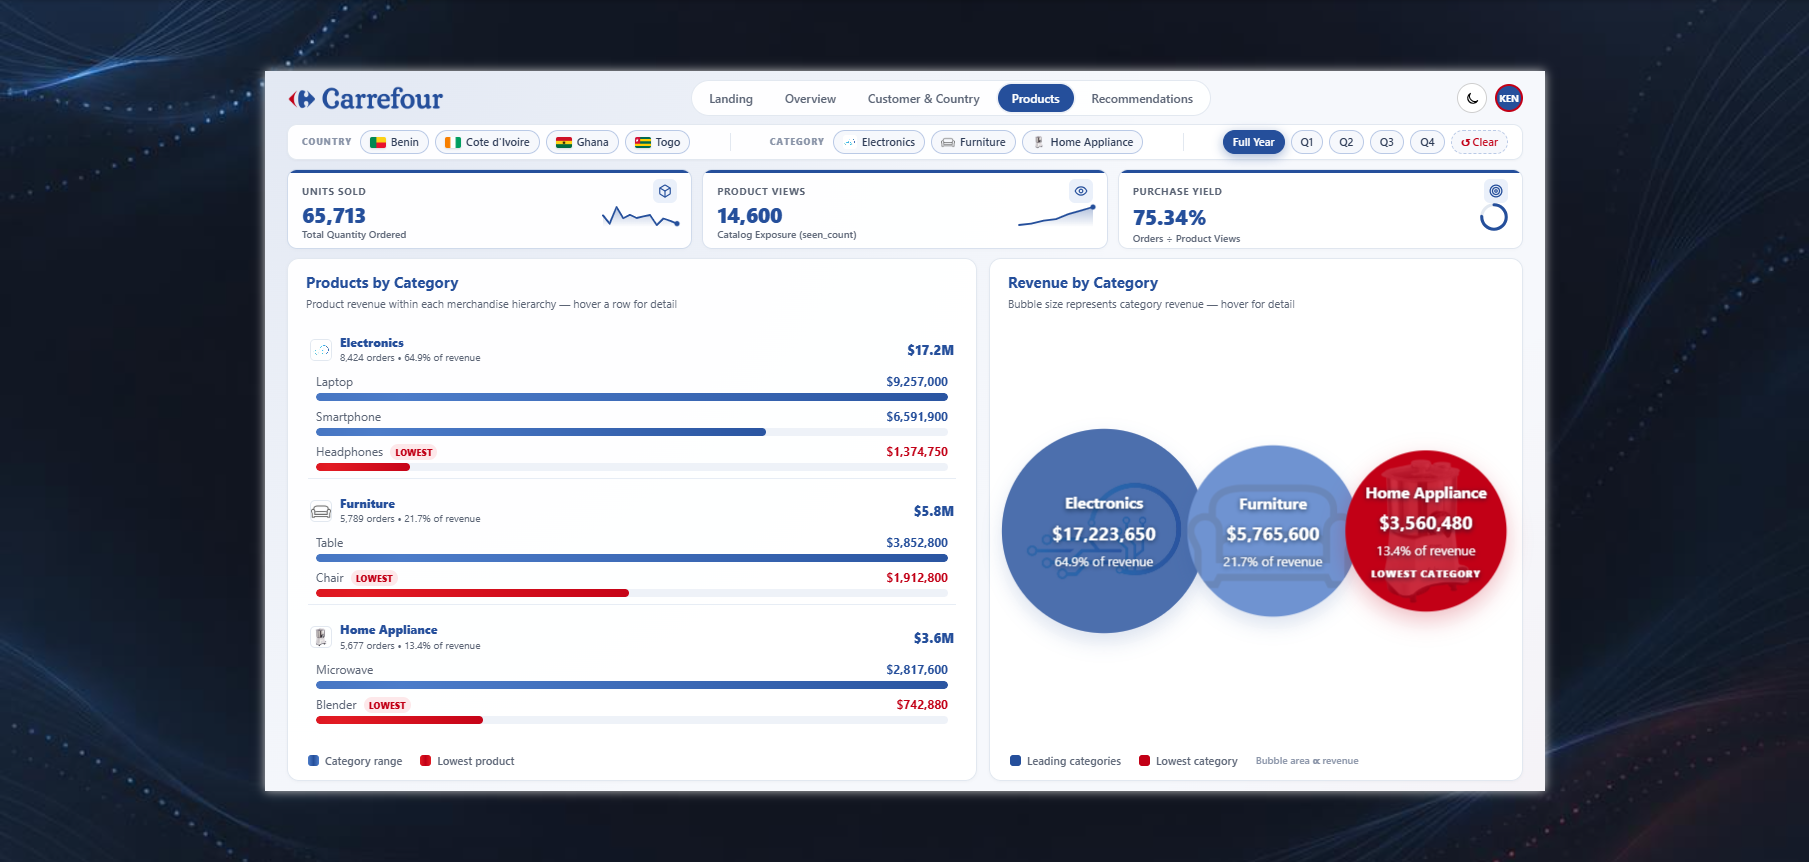

What the dashboard file says about the page in this screenshot:
{"tool":"powerbi","page":{"name":"Products Page","canvas":[1280,720],"ordinal":3},"visuals":[{"type":"htmlContent443BE3AD55E043BF878BED274D3A6855","fields":{"content":["HTML_Visuals.Product_Page"]},"box":[0,0,1280,720],"z":0},{"type":"advancedSlicerVisual","title":"Country","fields":{"Values":["dim_country.country"]},"box":[96,56,344,32],"z":1000},{"type":"advancedSlicerVisual","title":"Category","fields":{"Values":["dim_category.category"]},"box":[568,56,312,32],"z":2000},{"type":"advancedSlicerVisual","title":"Quarter","fields":{"Values":["dim_date.quarter"]},"box":[1024,56,160,32],"z":3000},{"type":"actionButton","title":"Clear Filters","box":[1184,56,64,32],"z":4000},{"type":"actionButton","title":"Recommendations","box":[820,15,115,24],"z":7000},{"type":"actionButton","title":"Customer & Country","box":[600,15,120,24],"z":7250},{"type":"actionButton","title":"Overview","box":[515,15,60,24],"z":7500},{"type":"actionButton","title":"Landing","box":[440,15,55,24],"z":8000}]}

Visuals, with their boxes on the page's 1280x720 design canvas (x1, y1, x2, y2). These are canvas units, not pixel positions in the 1809x862 screenshot, which may show the page scaled, cropped or inside an application window:
htmlContent443BE3AD55E043BF878BED274D3A6855 - HTML_Visuals.Product_Page: {"x1": 0, "y1": 0, "x2": 1280, "y2": 720}
"Country" advancedSlicerVisual: {"x1": 96, "y1": 56, "x2": 440, "y2": 88}
"Category" advancedSlicerVisual: {"x1": 568, "y1": 56, "x2": 880, "y2": 88}
"Quarter" advancedSlicerVisual: {"x1": 1024, "y1": 56, "x2": 1184, "y2": 88}
"Clear Filters" actionButton: {"x1": 1184, "y1": 56, "x2": 1248, "y2": 88}
"Recommendations" actionButton: {"x1": 820, "y1": 15, "x2": 935, "y2": 39}
"Customer & Country" actionButton: {"x1": 600, "y1": 15, "x2": 720, "y2": 39}
"Overview" actionButton: {"x1": 515, "y1": 15, "x2": 575, "y2": 39}
"Landing" actionButton: {"x1": 440, "y1": 15, "x2": 495, "y2": 39}
